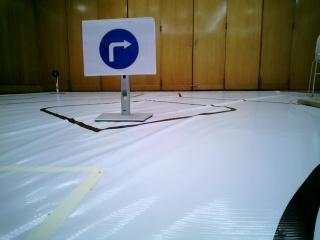right: (84, 19, 155, 76)
